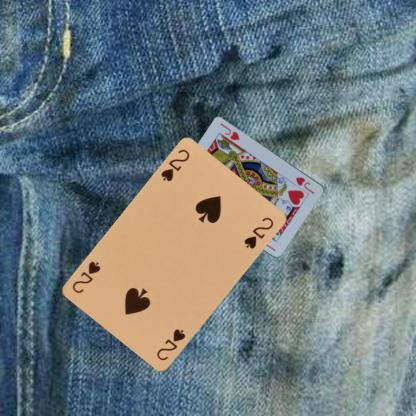2s: (158, 146, 192, 184), (154, 326, 186, 362)
Jh: (294, 174, 316, 196)
